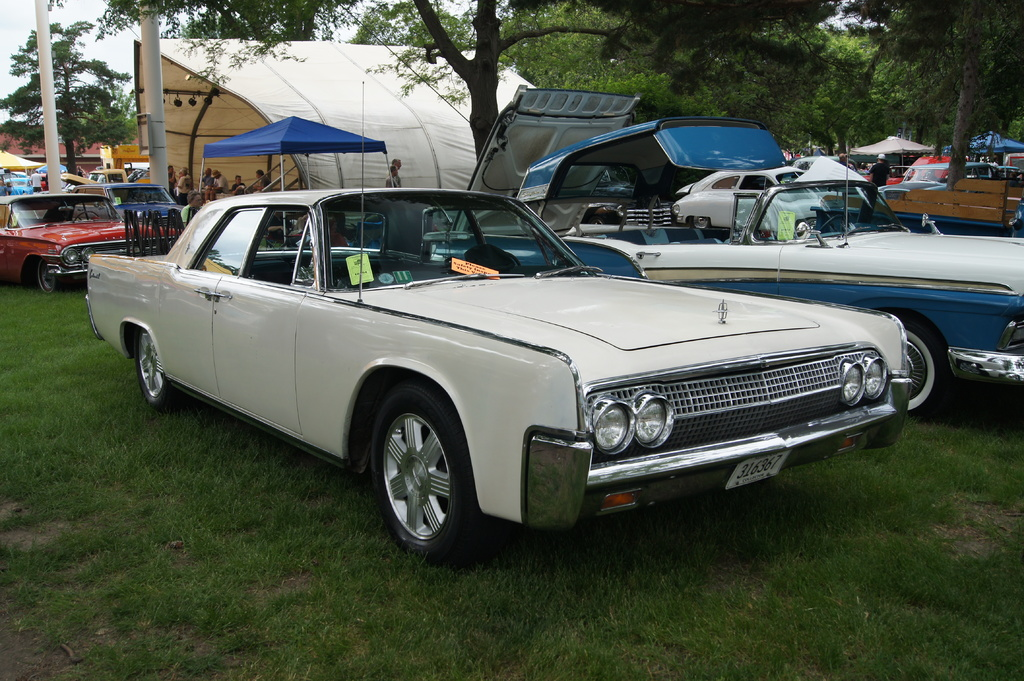Car: (0, 0, 1023, 561)
